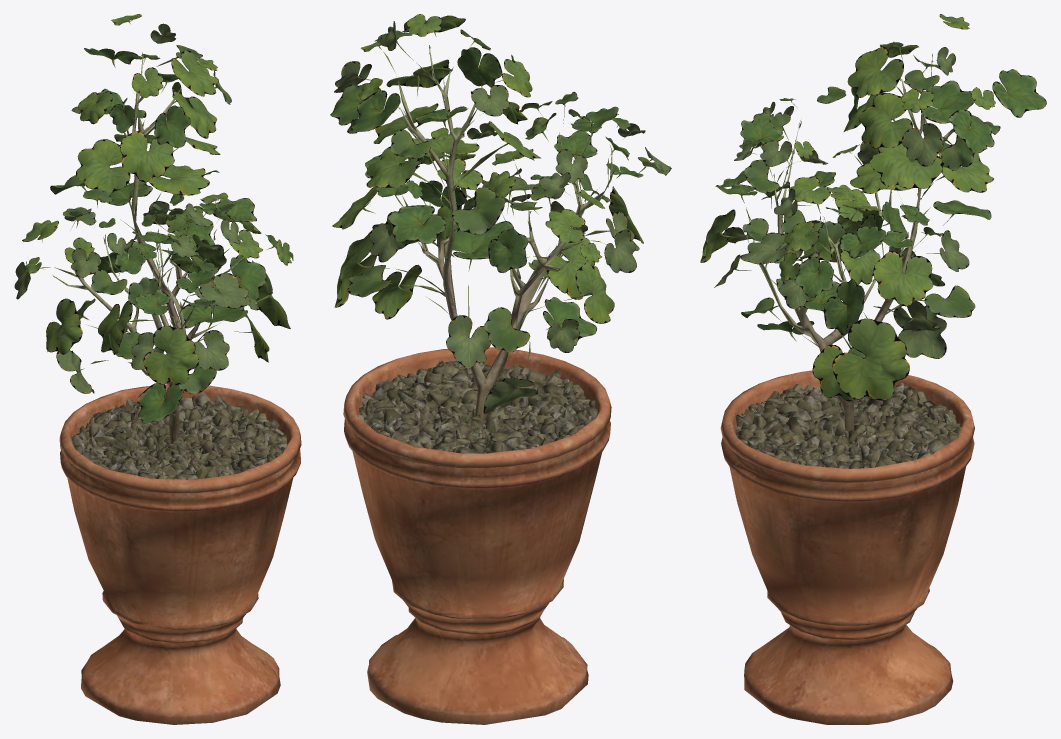
The model's file is pot.glb.
The picture shows the model from 3 angles, left to right: view 1: azimuth 30°, elevation 25°; view 2: azimuth 150°, elevation 25°; view 3: azimuth 270°, elevation 25°; orthographic projection. The views are drawn at different scales.
Parts seen in each view (by area): view 1: potted_plant_01_stem, potted_plant_01_leaves; view 2: potted_plant_01_stem, potted_plant_01_leaves; view 3: potted_plant_01_stem, potted_plant_01_leaves.
Part boxes in pixels (<box>): potted_plant_01_stem: <box>54,54,301,724</box>; potted_plant_01_leaves: <box>14,14,293,423</box>; potted_plant_01_stem: <box>343,49,612,724</box>; potted_plant_01_leaves: <box>330,14,671,413</box>; potted_plant_01_stem: <box>720,55,974,724</box>; potted_plant_01_leaves: <box>700,14,1046,401</box>.
Bounding box in the file's own units: 0.5874 × 1.34 × 0.6336.
2 materials, 2 textured.
